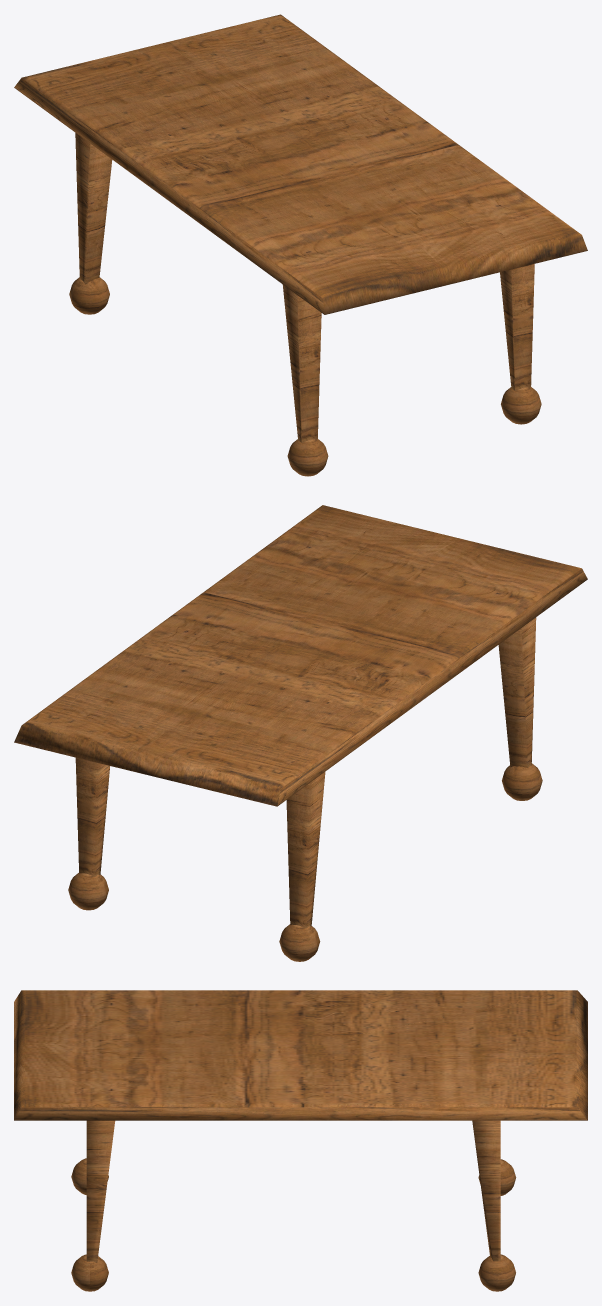
The model's file is Table.fbx.
3 renders of one model, top to bottom at view 1: azimuth 30°, elevation 25°; view 2: azimuth 150°, elevation 25°; view 3: azimuth 270°, elevation 25°, orthographic. The views are drawn at different scales.
Visible parts, largest first — view 1: Table; view 2: Table; view 3: Table.
Part boxes in pixels (x1=…): Table: x1=14, y1=14, x2=587, y2=476; Table: x1=14, y1=505, x2=587, y2=961; Table: x1=14, y1=990, x2=587, y2=1291.
Bounding box in the file's own units: 140 × 106 × 287.
